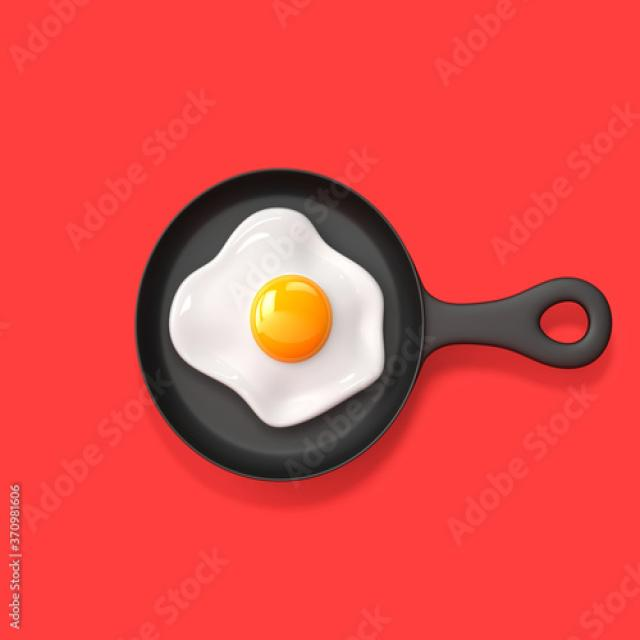Egg: (169, 208, 385, 426)
